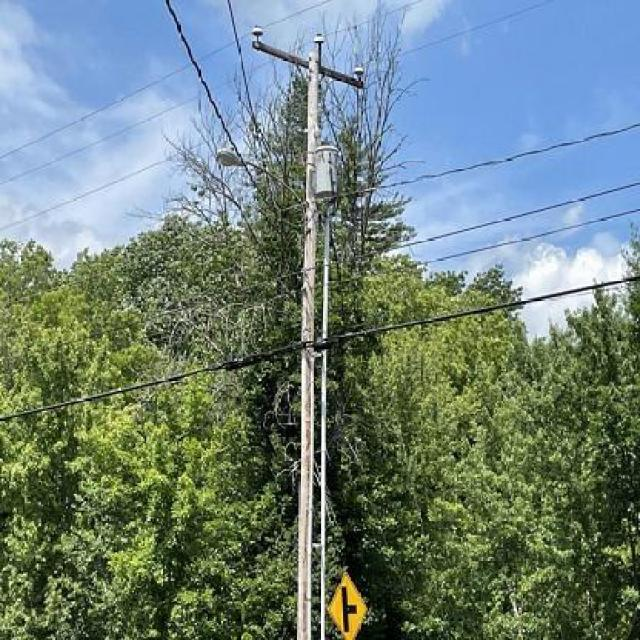pole: (245, 19, 372, 638)
